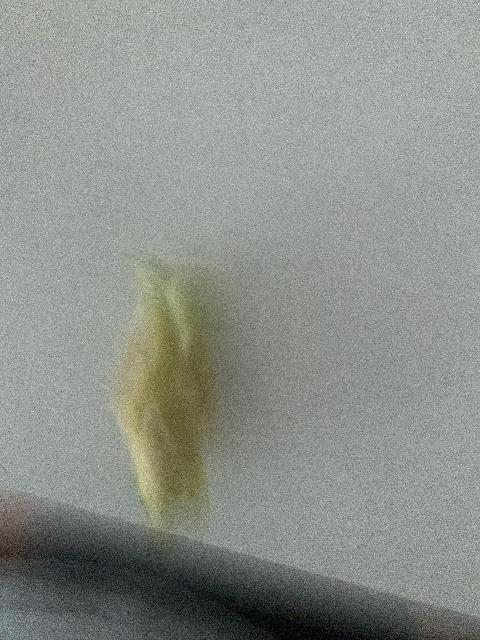Organik: (106, 256, 219, 533)
